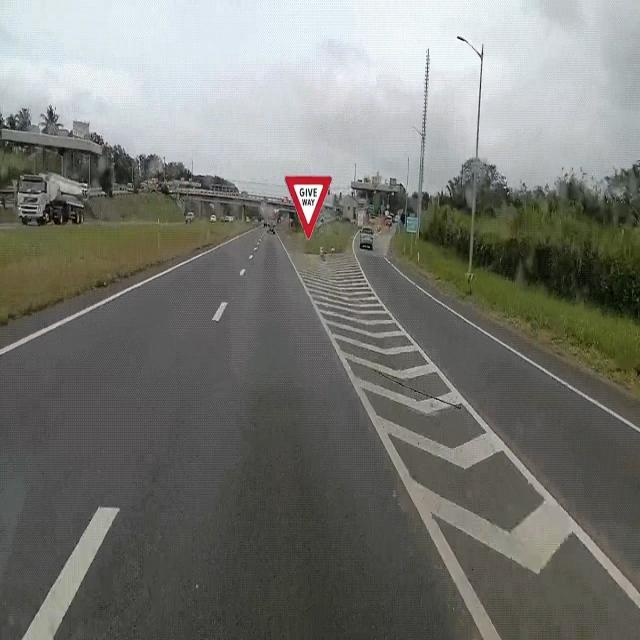Ceder-le-Passage: (280, 164, 336, 256)
